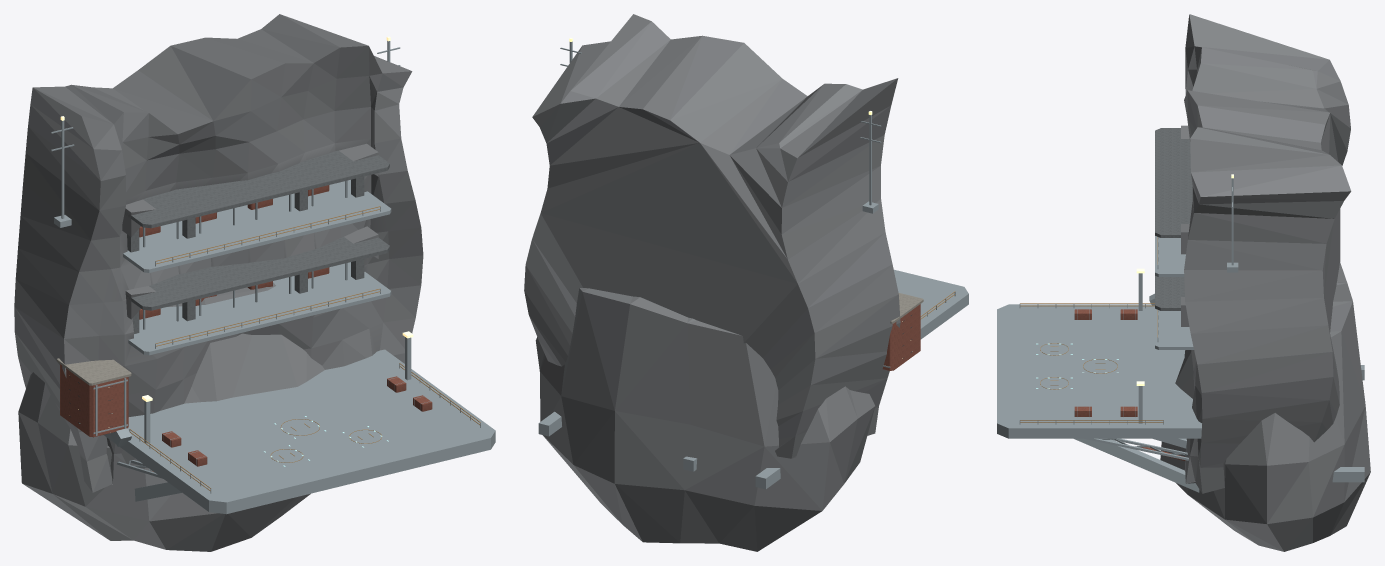
The model's file is blackglass.glb.
3 views of the same model, side by side, from view 1: azimuth 30°, elevation 25°; view 2: azimuth 150°, elevation 25°; view 3: azimuth 270°, elevation 25° (orthographic). The views are drawn at different scales.
Visible parts, largest first — view 1: blackglass / rock, blackglass / metal, blackglass / hull, blackglass / copper, blackglass / ochre, blackglass / armor; view 2: blackglass / rock, blackglass / metal, blackglass / copper; view 3: blackglass / rock, blackglass / metal, blackglass / hull, blackglass / ochre, blackglass / copper.
Boxes of the visible parts, bbox=[...] form: blackglass / rock: bbox=[14, 14, 423, 551]; blackglass / metal: bbox=[51, 41, 495, 514]; blackglass / hull: bbox=[125, 150, 389, 333]; blackglass / copper: bbox=[60, 185, 432, 471]; blackglass / ochre: bbox=[129, 206, 480, 490]; blackglass / armor: bbox=[57, 358, 131, 433]; blackglass / rock: bbox=[524, 14, 900, 551]; blackglass / metal: bbox=[538, 41, 968, 489]; blackglass / copper: bbox=[882, 304, 920, 370]; blackglass / rock: bbox=[1160, 14, 1370, 551]; blackglass / metal: bbox=[997, 178, 1364, 492]; blackglass / hull: bbox=[1155, 128, 1192, 310]; blackglass / ochre: bbox=[1020, 237, 1163, 422]; blackglass / copper: bbox=[1074, 309, 1185, 460].
Size of the model in its own units: 103 by 133 by 105.
Materials: 10 (4 with a texture image).
